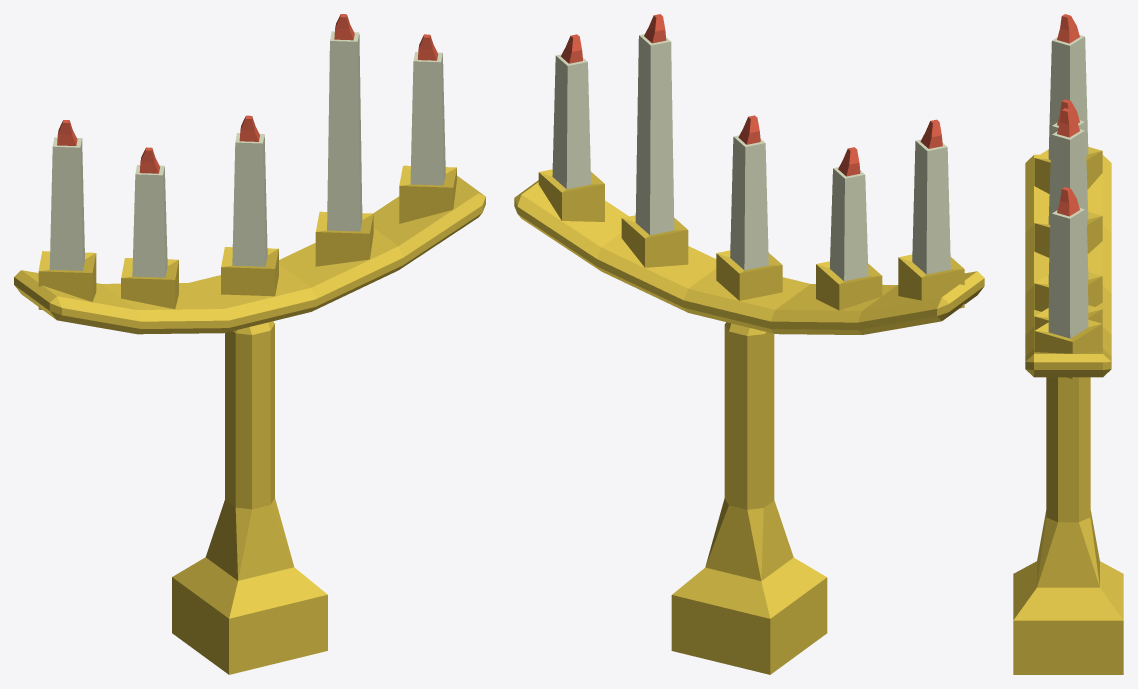
Rendered from Candle.fbx.
3 renders of one model, left to right at view 1: azimuth 30°, elevation 25°; view 2: azimuth 150°, elevation 25°; view 3: azimuth 270°, elevation 25°, orthographic. The views are drawn at different scales.
Parts seen in each view (by area): view 1: Candle; view 2: Candle; view 3: Candle.
Part boxes in pixels (x1,y1,x2,y2): Candle: [14, 14, 485, 674]; Candle: [514, 14, 984, 674]; Candle: [1013, 14, 1123, 674].
Size of the model in its own units: 175 by 231 by 39.56.
